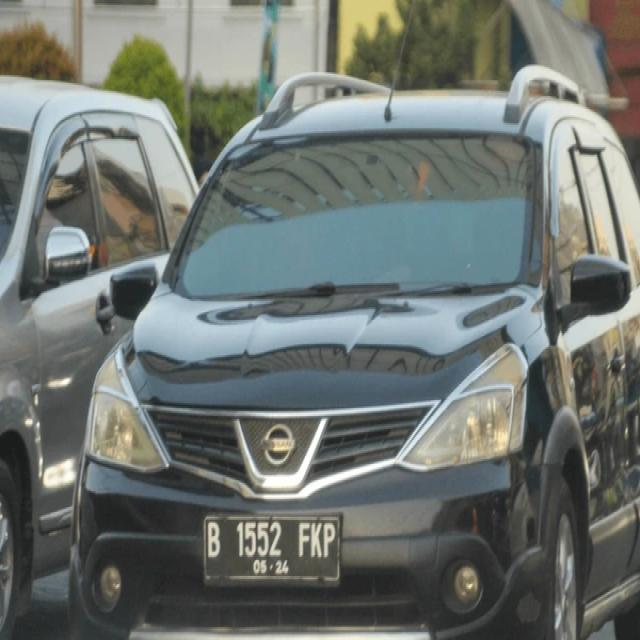nissan: (262, 424, 296, 471)
